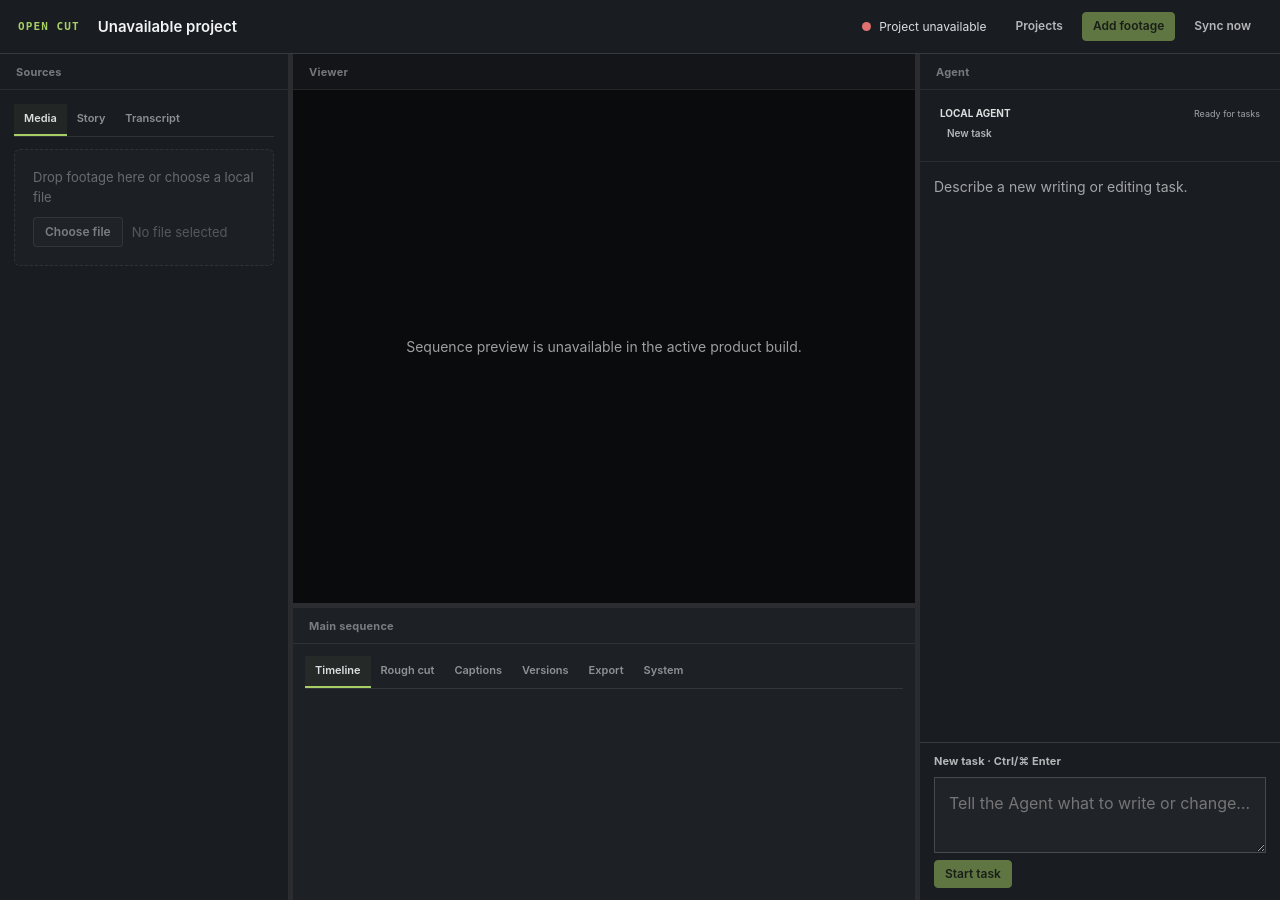
Test: HomeView › keeps project storage details out of the unavailable workspace
Expected: the text "Project unavailable" is shown, [879, 19, 986, 34]
Click the tab "Story".
click(91, 120)  # box [67, 104, 115, 136]
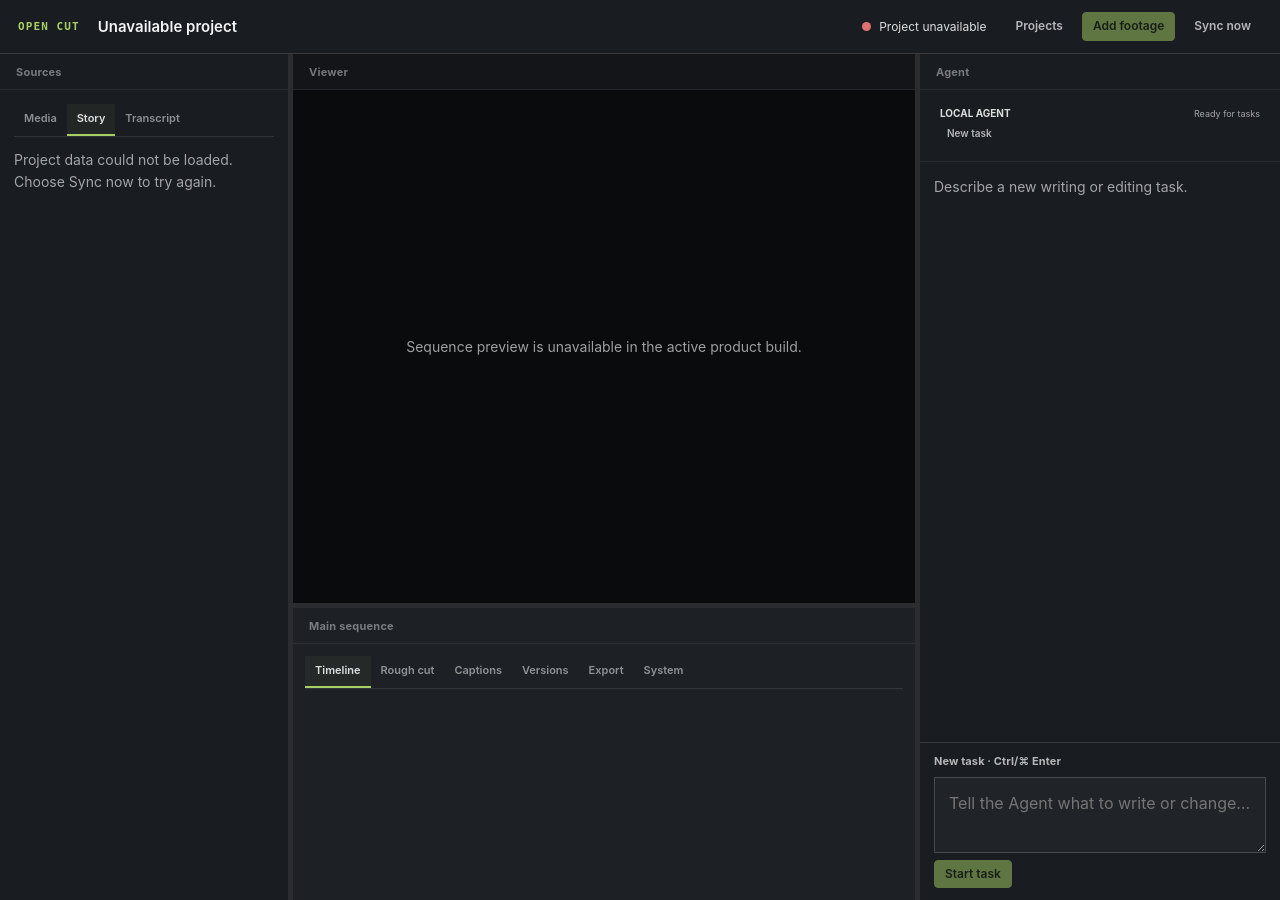
Expected: the button "Sync now" is enabled, [1183, 12, 1262, 41]
Result: the text "Project data could not be loaded. Choose Sync now to try again." is shown at [14, 151, 233, 190]
